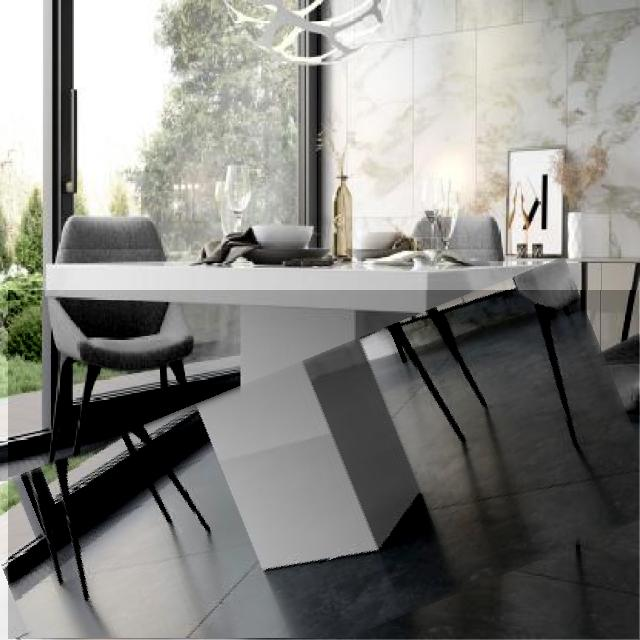floor: (9, 291, 639, 639)
